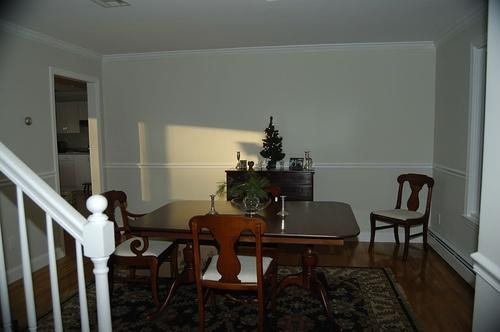chair: (189, 214, 277, 332), (102, 191, 181, 321), (369, 172, 436, 266)
diningtable: (127, 200, 362, 320)
